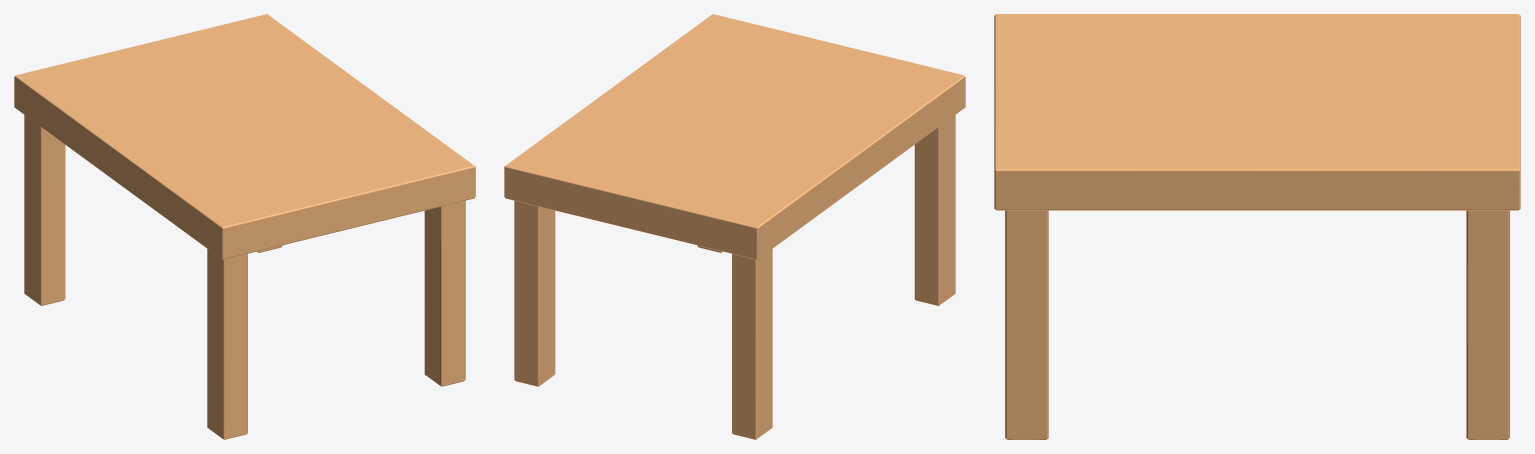
Rendered from mesa.fbx.
3 renders of one model, left to right at view 1: azimuth 30°, elevation 25°; view 2: azimuth 150°, elevation 25°; view 3: azimuth 270°, elevation 25°, orthographic. The views are drawn at different scales.
Visible parts, largest first — view 1: Table; view 2: Table; view 3: Table.
Part boxes in pixels (left/top/right/bottom): Table: left=14, top=14, right=475, bottom=439; Table: left=504, top=14, right=965, bottom=439; Table: left=994, top=14, right=1520, bottom=439.
Size of the model in its own units: 171 by 140 by 243.
